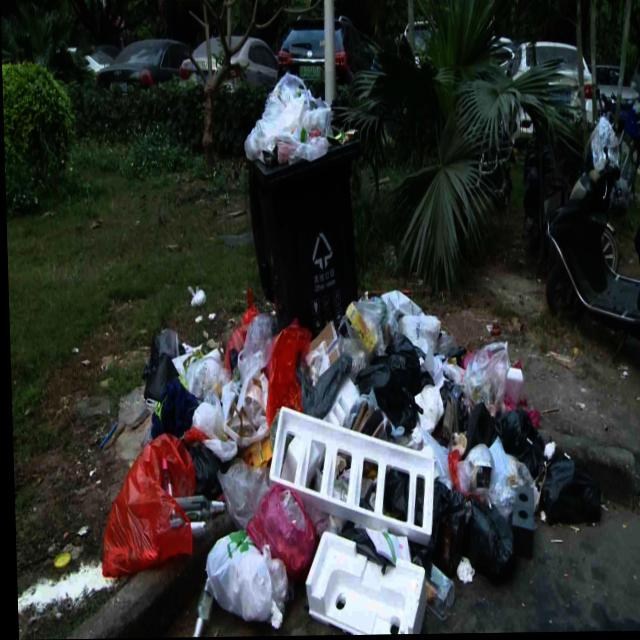garbage: (93, 280, 599, 638)
overflow: (241, 72, 364, 341)
